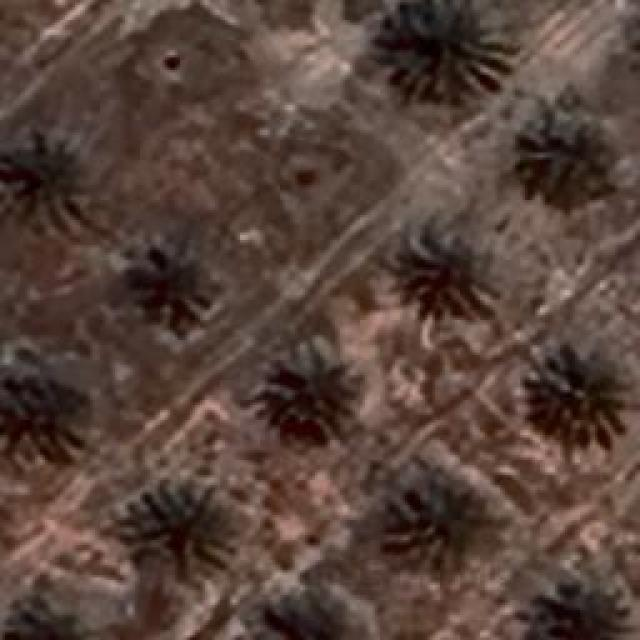PalmTree: (111, 58, 305, 611), (52, 43, 111, 618), (382, 0, 509, 102), (125, 230, 220, 342), (518, 100, 618, 202), (262, 342, 360, 438), (535, 350, 630, 448), (0, 346, 85, 454), (130, 482, 228, 570), (400, 230, 495, 312), (395, 482, 483, 570), (2, 140, 86, 222), (539, 577, 629, 640)
